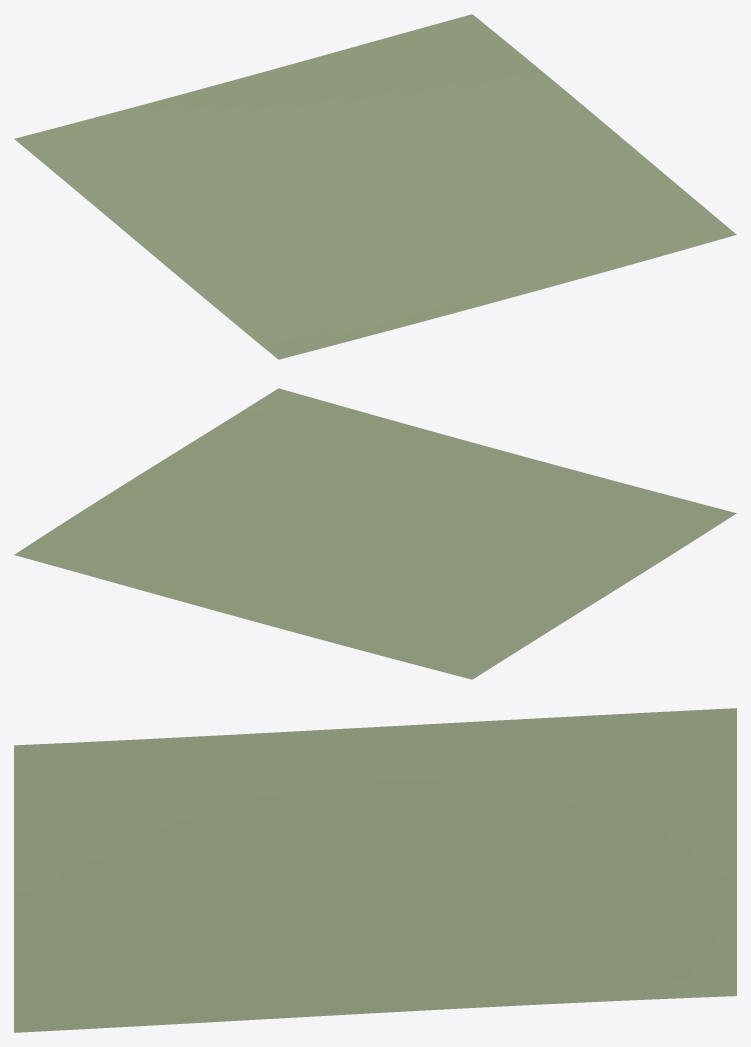
The model's file is desert-8-18.glb.
3 renders of one model, top to bottom at view 1: azimuth 30°, elevation 25°; view 2: azimuth 150°, elevation 25°; view 3: azimuth 270°, elevation 25°, orthographic. The views are drawn at different scales.
Visible parts, largest first — view 1: desert-8-18; view 2: desert-8-18; view 3: desert-8-18.
Part boxes in pixels (x1,y1,x2,y2): desert-8-18: (14,14,736,359); desert-8-18: (14,388,736,679); desert-8-18: (14,708,736,1032).
Bounding box in the file's own units: 512 × 42.81 × 512.
